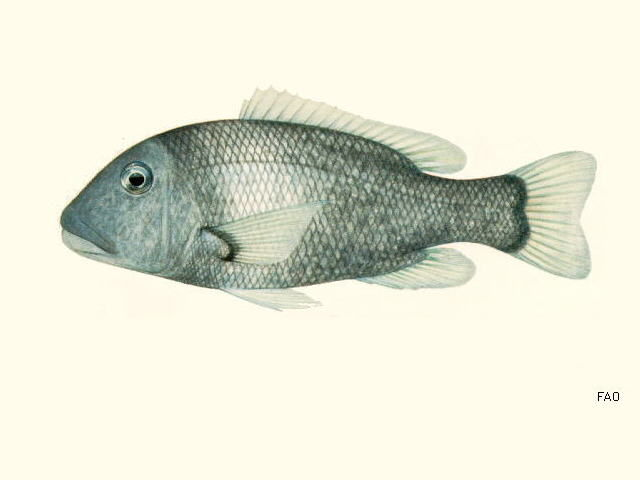fish: (60, 84, 598, 311)
